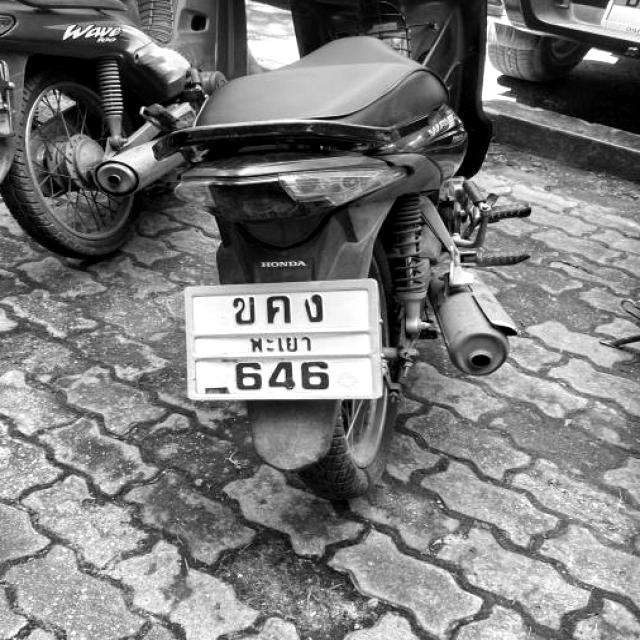letters: (225, 293, 259, 330), (232, 358, 264, 394), (267, 286, 293, 330), (266, 357, 296, 392), (302, 291, 330, 325), (300, 359, 332, 388)
license-plate: (183, 282, 384, 407)
province: (242, 332, 320, 350)
